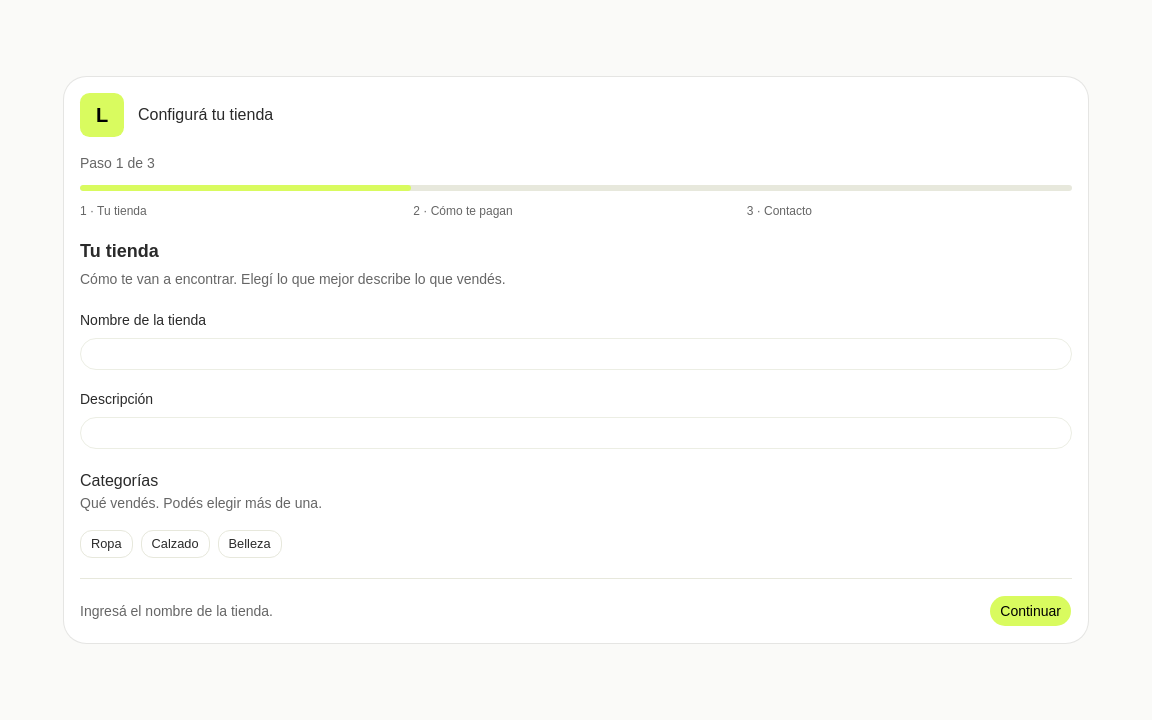
Test: shop wizard — step 2 · Cómo te pagan › blocks advancing without a payment method
In the field labelled "Nombre de la tienda": (576,354) [80, 338, 1072, 370], type "Tienda Uno"
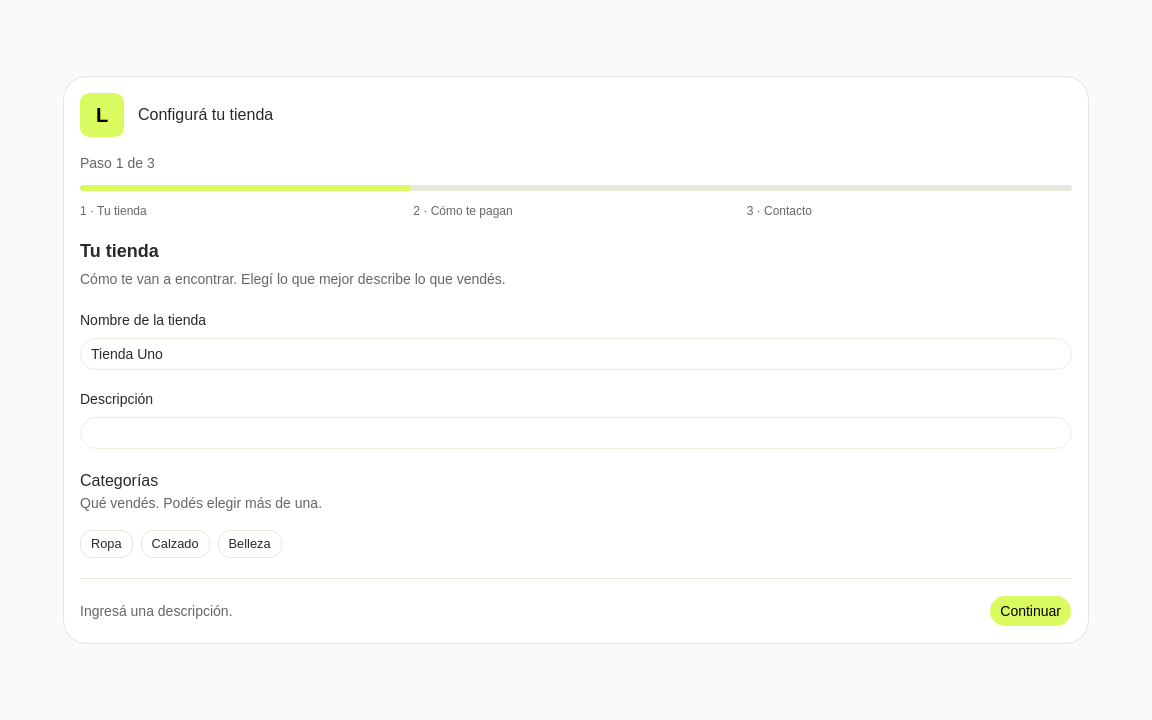
In the field labelled "Descripción": (576,433) [80, 417, 1072, 449], type "Ropa urbana"
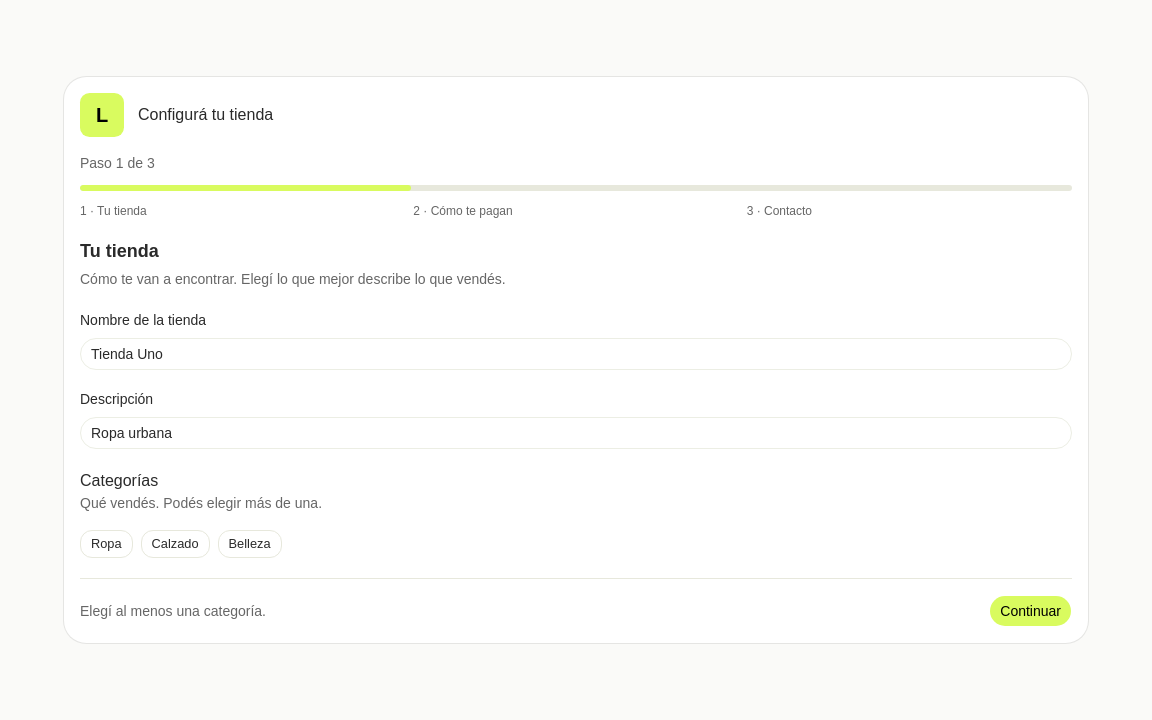
Click the button "Ropa": (106,544) [80, 530, 133, 558]
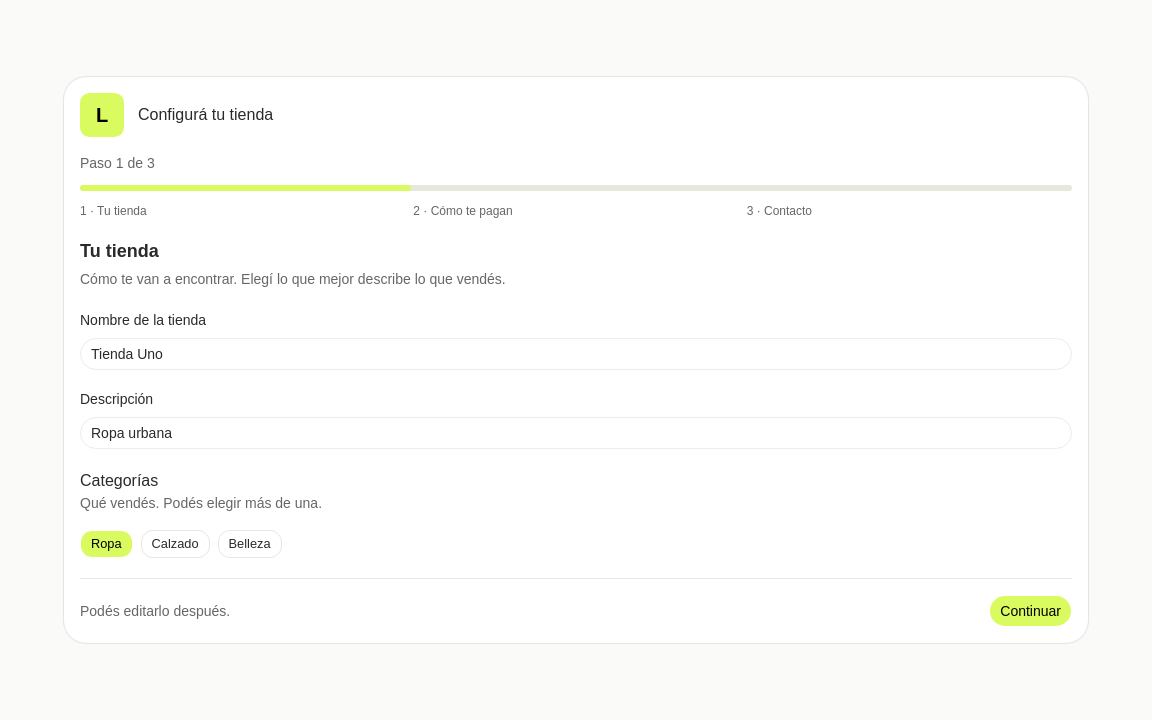
Click the button "Continuar": (1031,611) [989, 595, 1072, 627]
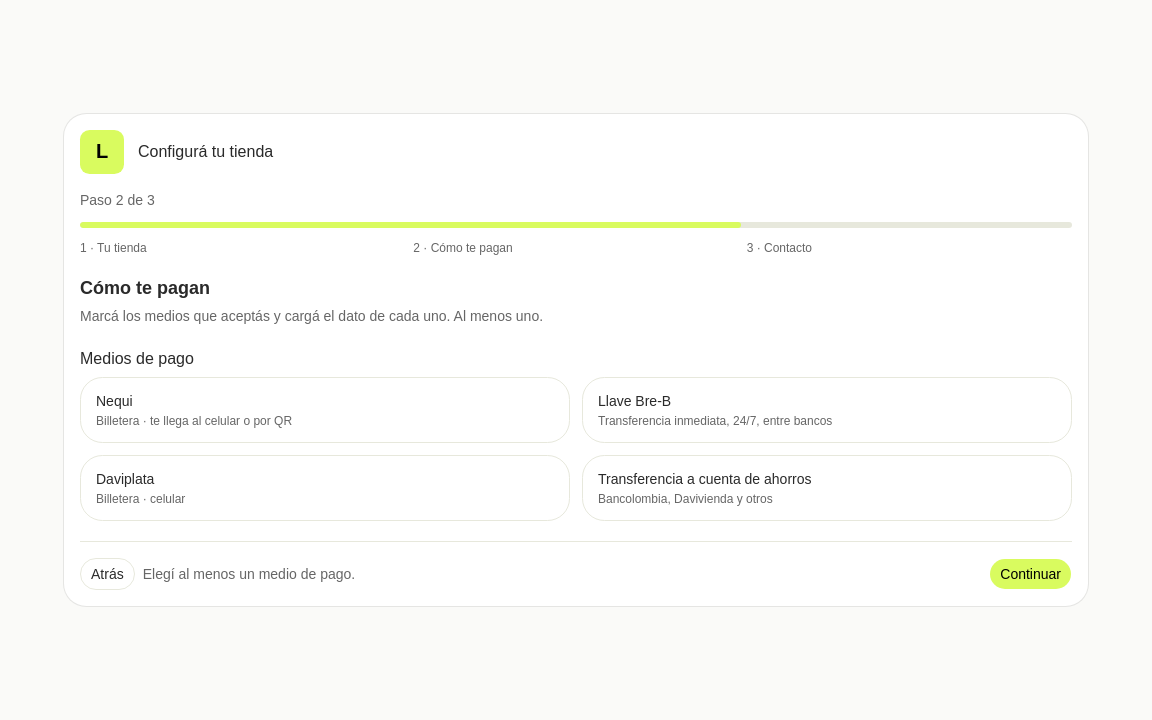
Click the button "Continuar": (1031,574) [989, 558, 1072, 590]
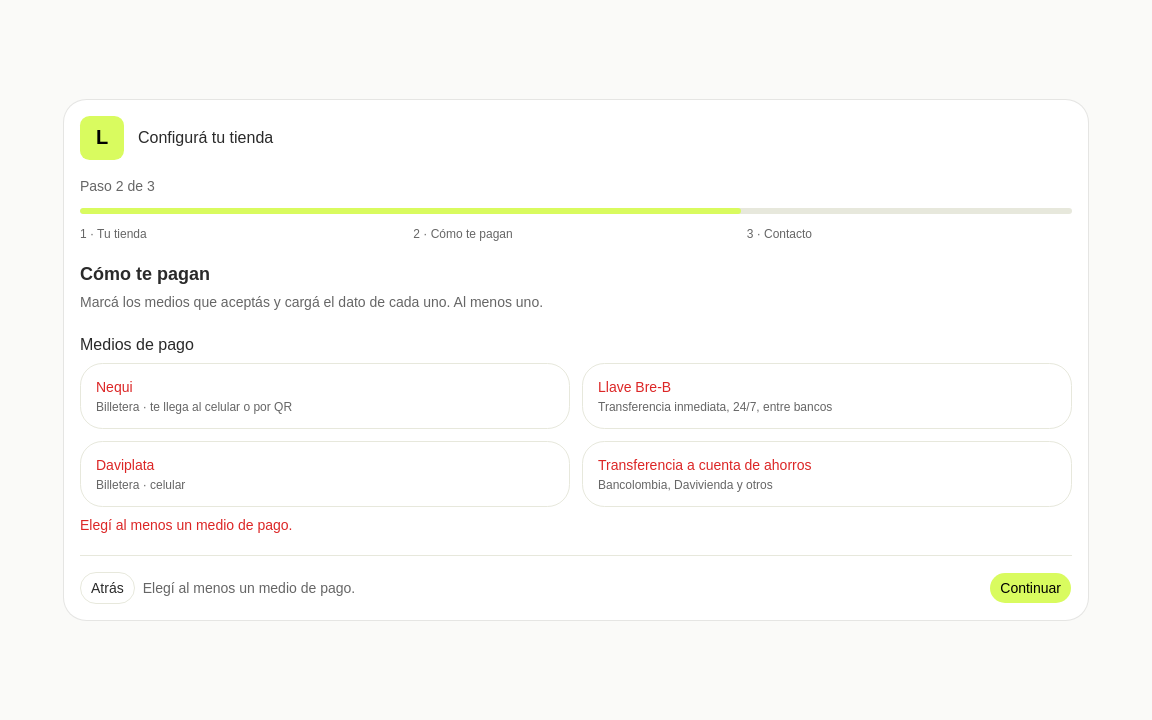
Expected: the text "Marcá los medios que aceptás y cargá el dato de cada uno. Al menos uno." is shown once, [80, 294, 543, 310]
Expected: the text "Paso 2 de 3" is shown, [80, 178, 155, 194]
Expected: the text "Elegí al menos un medio de pago." is shown, [80, 517, 292, 533]
